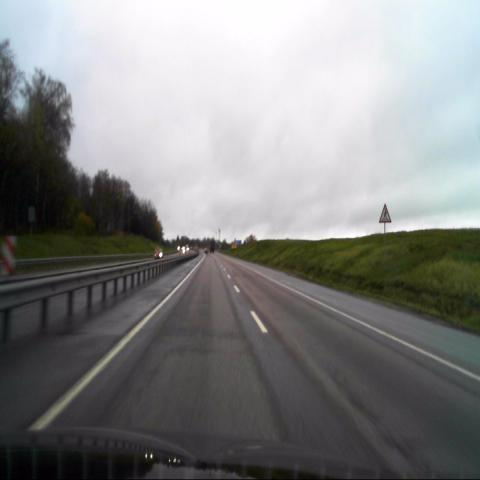1_22: (378, 203, 392, 224)
